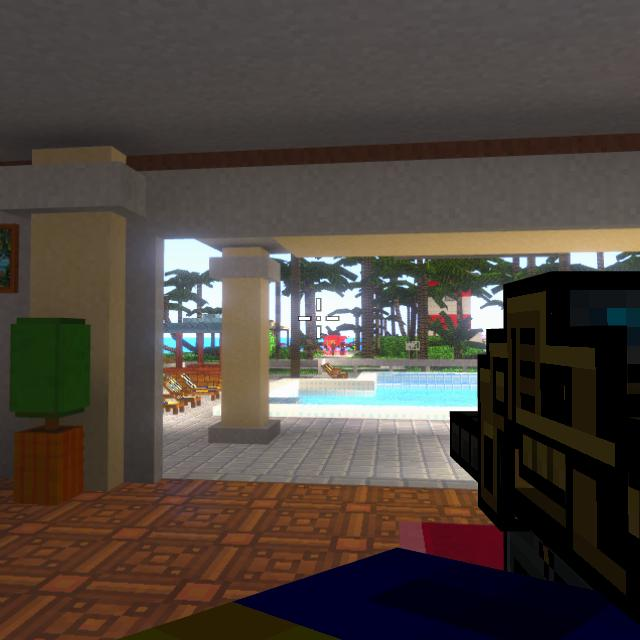Enemy: (337, 340, 348, 355), (330, 340, 337, 355), (324, 340, 330, 355)
